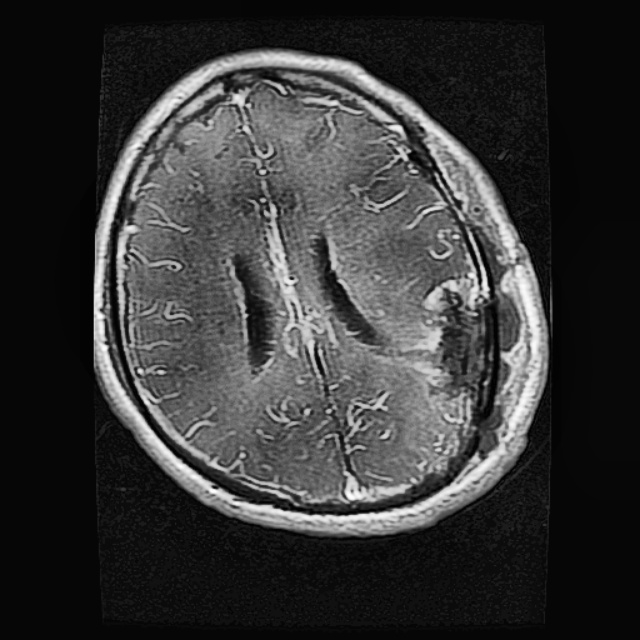Pituitary: (420, 273, 520, 408)
